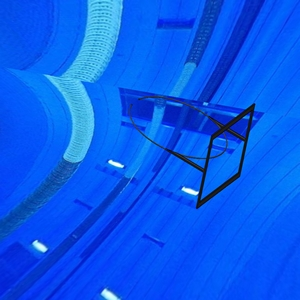circle: (128, 95, 256, 211)
